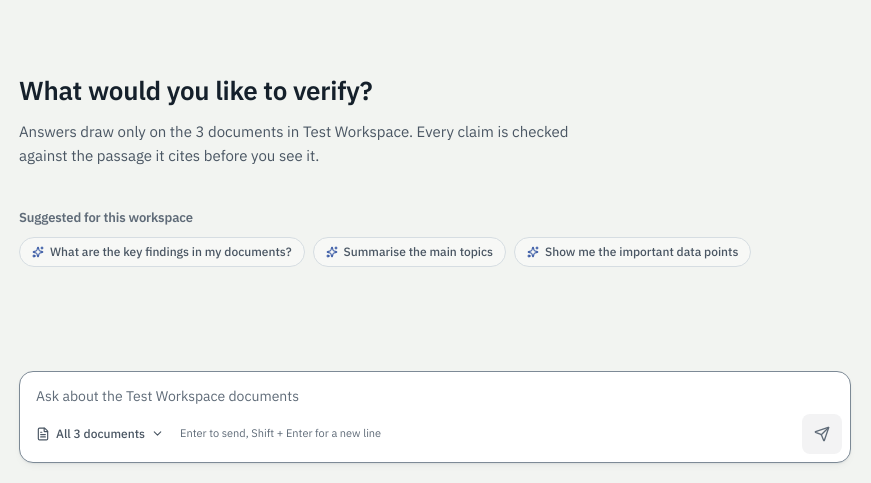
ChatPage › shows Seal receipt for the workspace owner on a completed answer (R2-6)
Type "Summarise revenue" into the text box named "Ask a question about this workspace". click: [435, 391]
box: [20,372,850,410]
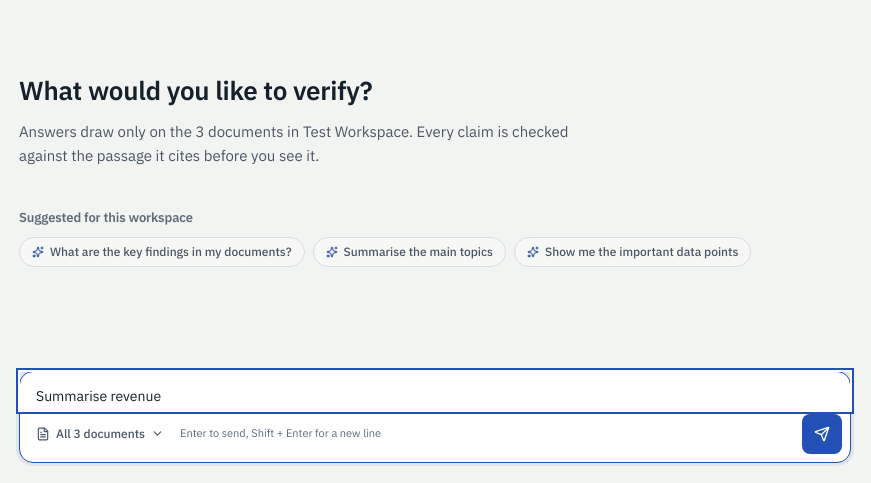
Press Enter
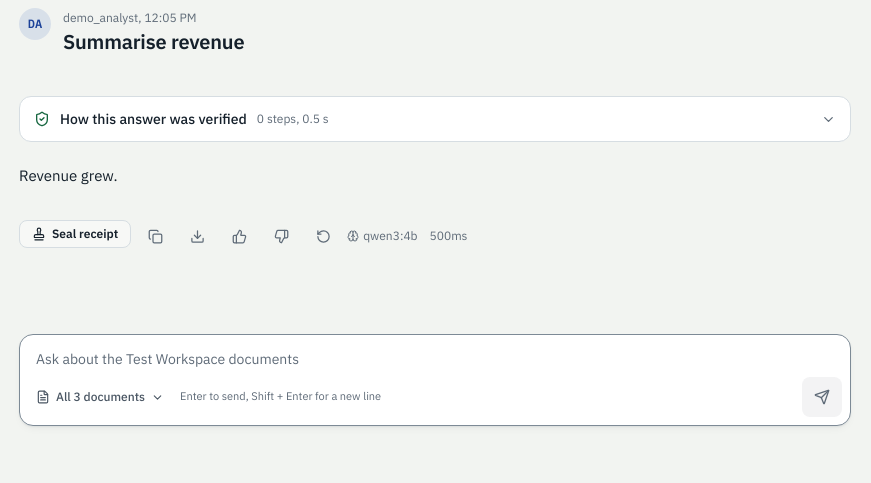
Now the button "Seal receipt" is shown, box [19,220,131,248]
